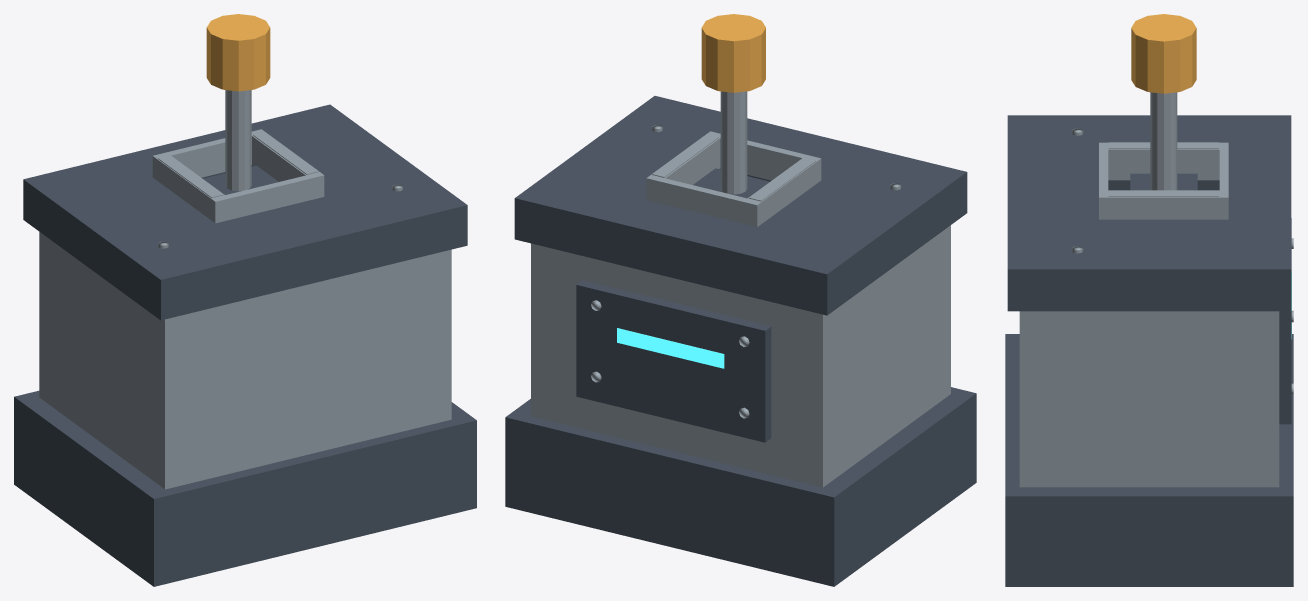
The picture shows the model from 3 angles, left to right: view 1: azimuth 30°, elevation 25°; view 2: azimuth 150°, elevation 25°; view 3: azimuth 270°, elevation 25°; orthographic projection. The views are drawn at different scales.
Visible parts, largest first — view 1: Housing, TopCap, Base, LeverSocket, LeverGrip, LeverShaft, SocketRetainer_L, SocketRetainer_R, PivotAnchorVisual; view 2: TopCap, Housing, Base, FrontPanel, LeverSocket, LeverGrip, LeverShaft, StatusLED, SocketRetainer_L, SocketRetainer_R, PivotAnchorVisual; view 3: Housing, TopCap, Base, LeverSocket, LeverGrip, LeverShaft, FrontPanel, SocketRetainer_R, PivotAnchorVisual, SocketRetainer_L.
Part boxes in pixels (bbox=[...]): Housing: bbox=[39, 232, 451, 489]; TopCap: bbox=[23, 104, 467, 320]; Base: bbox=[14, 390, 476, 586]; LeverSocket: bbox=[152, 129, 324, 223]; LeverGrip: bbox=[206, 14, 270, 91]; LeverShaft: bbox=[225, 90, 251, 191]; SocketRetainer_L: bbox=[158, 155, 223, 198]; SocketRetainer_R: bbox=[253, 132, 318, 174]; PivotAnchorVisual: bbox=[203, 165, 278, 194]; TopCap: bbox=[514, 96, 967, 315]; Housing: bbox=[531, 225, 950, 487]; Base: bbox=[505, 387, 976, 586]; FrontPanel: bbox=[576, 280, 771, 442]; LeverSocket: bbox=[646, 131, 821, 226]; LeverGrip: bbox=[701, 14, 765, 92]; LeverShaft: bbox=[720, 91, 747, 194]; StatusLED: bbox=[617, 328, 724, 368]; SocketRetainer_L: bbox=[749, 158, 815, 201]; SocketRetainer_R: bbox=[652, 134, 718, 177]; PivotAnchorVisual: bbox=[693, 168, 769, 198]; Housing: bbox=[1019, 311, 1279, 487]; TopCap: bbox=[1007, 115, 1291, 311]; Base: bbox=[1005, 334, 1293, 586]; LeverSocket: bbox=[1099, 142, 1228, 219]; LeverGrip: bbox=[1131, 14, 1196, 93]; LeverShaft: bbox=[1150, 92, 1177, 190]; FrontPanel: bbox=[1279, 218, 1291, 424]; SocketRetainer_R: bbox=[1108, 190, 1218, 196]; PivotAnchorVisual: bbox=[1130, 173, 1197, 190]; SocketRetainer_L: bbox=[1108, 142, 1218, 149].
Bounding box in the file's own units: 0.4 × 0.55 × 0.3.
